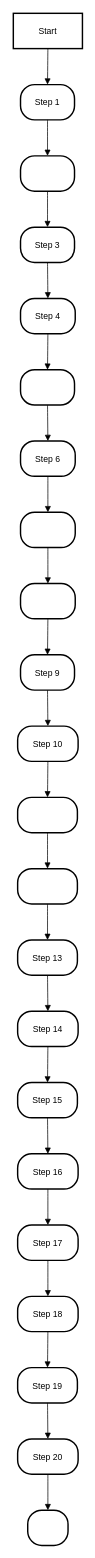
This 95x1558 diagram has some shape labels left out. Each missing label, with the box of its shape:
End: (27, 1509, 68, 1546)
Step 11: (17, 796, 78, 833)
Step 12: (17, 868, 78, 904)
Step 2: (19, 155, 75, 192)
Step 5: (19, 369, 75, 405)
Step 7: (19, 511, 76, 548)
Step 8: (19, 582, 76, 619)
